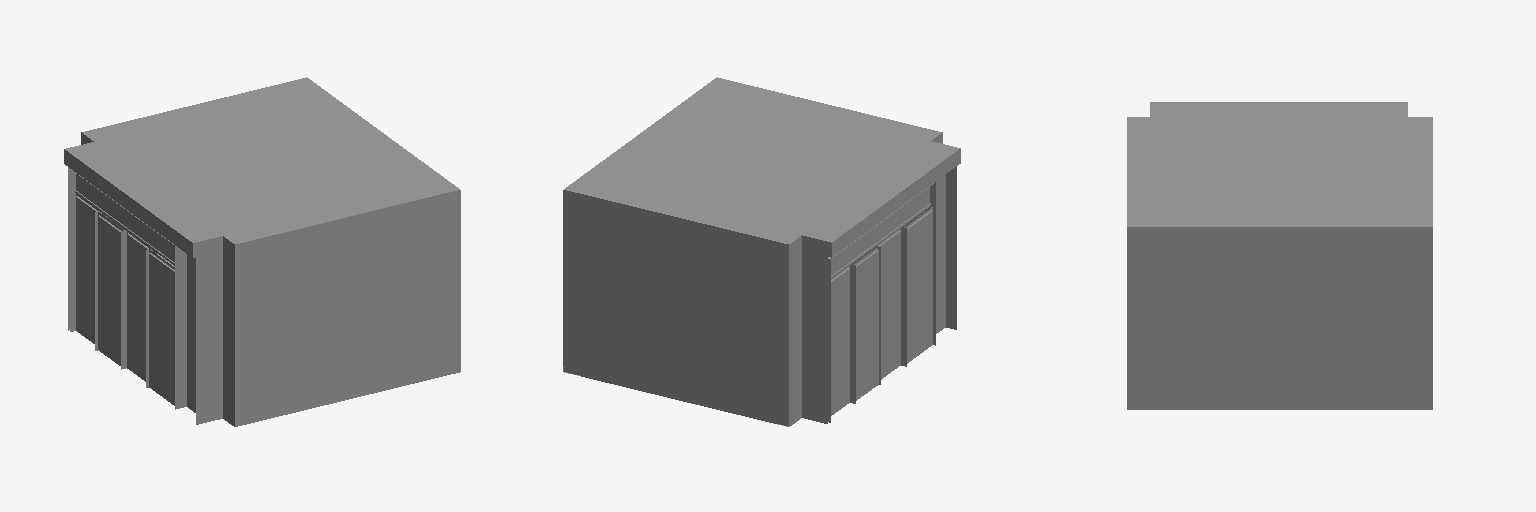
Rendered from office13_layout.obj.
The picture shows the model from 3 angles: view 1: azimuth 30°, elevation 25°; view 2: azimuth 150°, elevation 25°; view 3: azimuth 270°, elevation 25°; orthographic projection.
Parts seen in each view (by area): view 1: wall, ceiling, window.027, floor; view 2: wall, ceiling, window.027, furniture; view 3: wall, ceiling, floor.
Part boxes in pixels (x1,y1,x2,y2): wall: (64,146,460,424); ceiling: (79,77,460,257); window.027: (73,190,174,405); floor: (208,366,460,426); wall: (563,145,960,423); ceiling: (563,77,944,257); window.027: (831,203,935,415); furniture: (581,370,777,423); wall: (1127,102,1432,402); ceiling: (1127,110,1432,239); floor: (1127,403,1432,409).
Size of the model in its own units: 10.25 by 7 by 10.65.